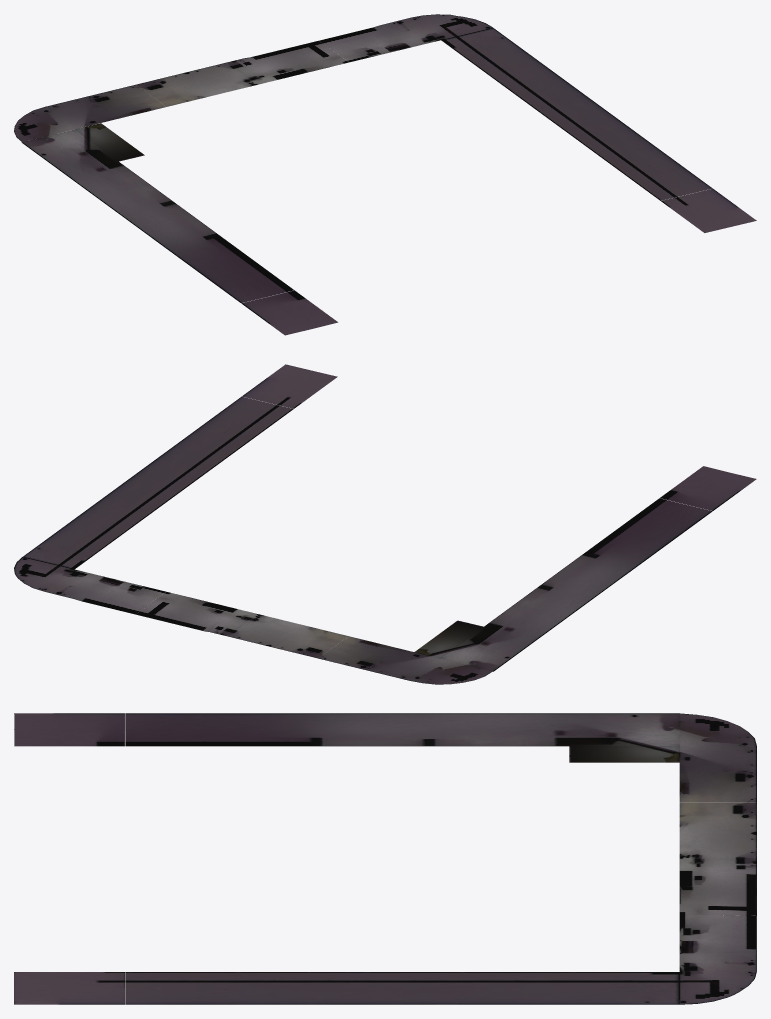
The model's file is TILES_MOBILE.glb.
The picture shows the model from 3 angles, top to bottom: view 1: azimuth 30°, elevation 25°; view 2: azimuth 150°, elevation 25°; view 3: azimuth 270°, elevation 25°; orthographic projection. The views are drawn at different scales.
Visible parts, largest first — view 1: Object041, Object040; view 2: Object041, Object040; view 3: Object041, Object040.
Boxes of the visible parts, left/top/right/bottom form: Object041: left=21, top=28, right=756, bottom=335; Object040: left=14, top=14, right=492, bottom=141; Object041: left=22, top=364, right=756, bottom=671; Object040: left=14, top=557, right=492, bottom=684; Object041: left=14, top=713, right=680, bottom=1004; Object040: left=679, top=713, right=756, bottom=1004.
Bounding box in the file's own units: 39.46 × 0.0529 × 42.59.
2 materials, 2 textured.
